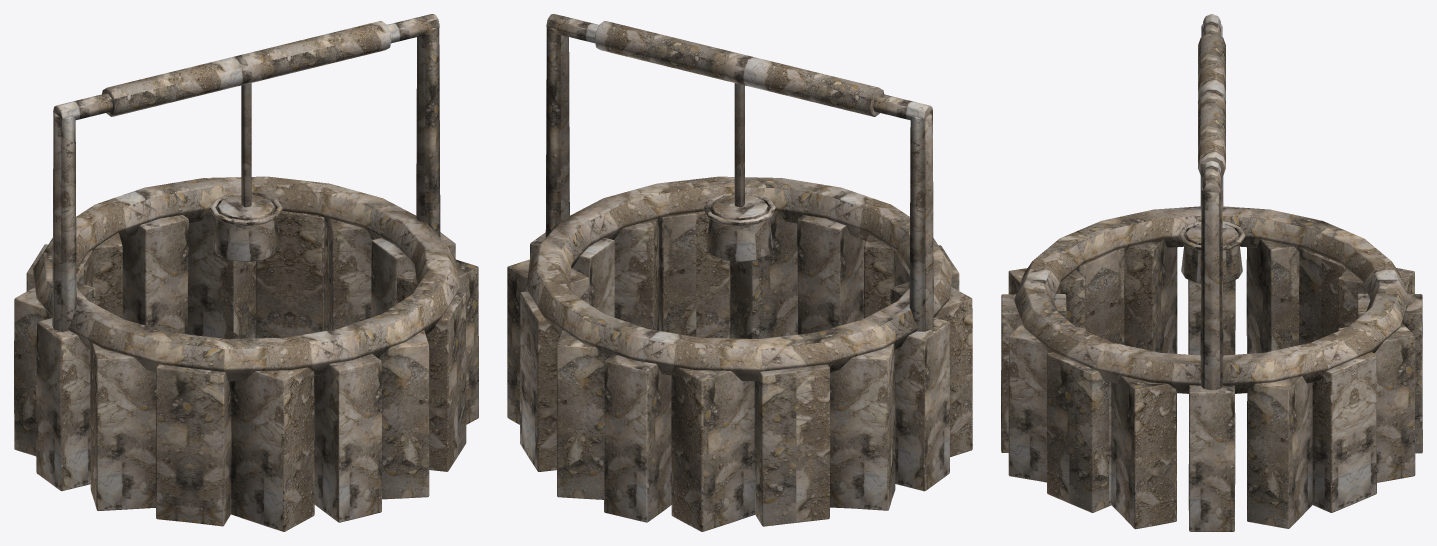
File: p_well.glb
3 views of the same model, side by side, from view 1: azimuth 30°, elevation 25°; view 2: azimuth 150°, elevation 25°; view 3: azimuth 270°, elevation 25° (orthographic). The views are drawn at different scales.
Visible parts, largest first — view 1: well; view 2: well; view 3: well.
Part boxes in pixels (<box>): well: <box>14,14,478,531</box>; well: <box>507,14,972,531</box>; well: <box>1001,14,1422,531</box>.
Size of the model in its own units: 2.72 by 2.49 by 2.72.
1 material, 1 textured.
